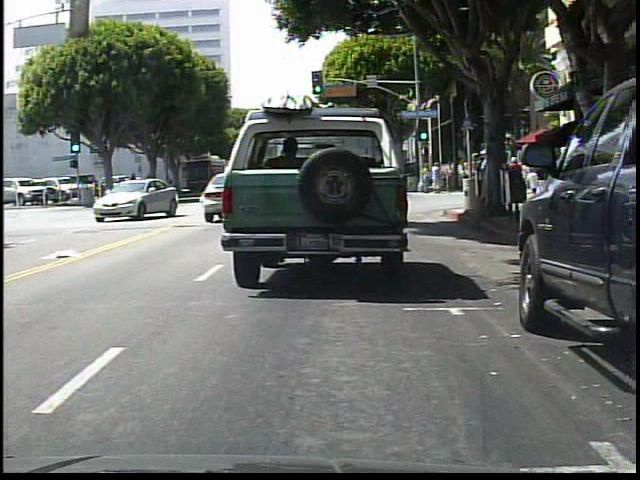person: (526, 164, 543, 205), (431, 160, 442, 194), (446, 161, 456, 193), (420, 164, 430, 194)
